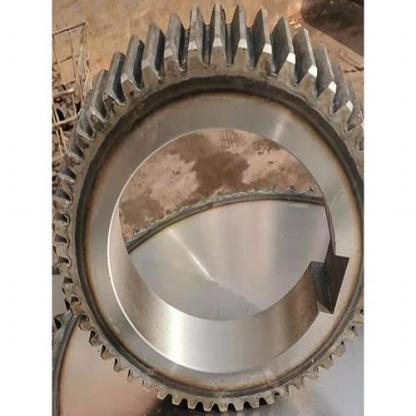FOD: (53, 0, 364, 415)
